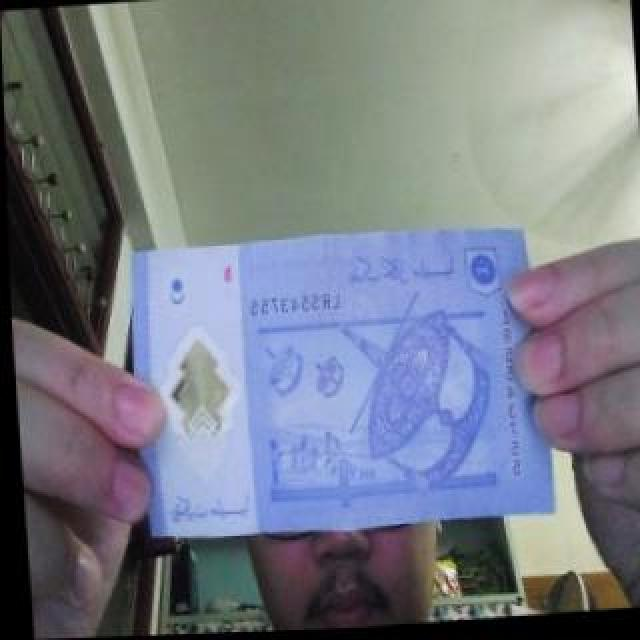1 Ringgit: (114, 224, 557, 551)
